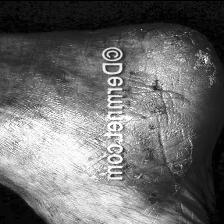Non-Cancerous Skin Condition: (109, 28, 219, 224), (0, 56, 90, 170)
